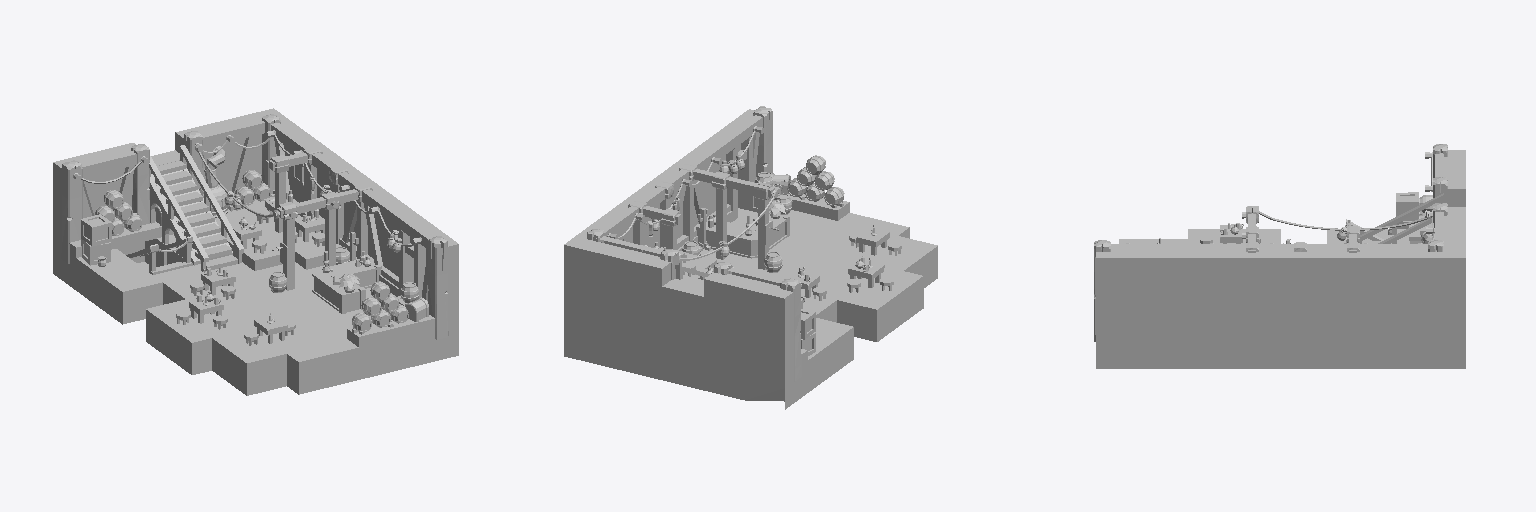
The model's file is testScene.obj.
3 renders of one model, left to right at view 1: azimuth 30°, elevation 25°; view 2: azimuth 150°, elevation 25°; view 3: azimuth 270°, elevation 25°, orthographic.
Parts seen in each view (by area): view 1: TheInn; view 2: TheInn; view 3: TheInn.
Part boxes in pixels (x1,y1,x2,y2): TheInn: (53,108,458,395); TheInn: (564,106,937,409); TheInn: (1094,144,1465,368).
Size of the model in its own units: 16.37 by 8.35 by 23.82.